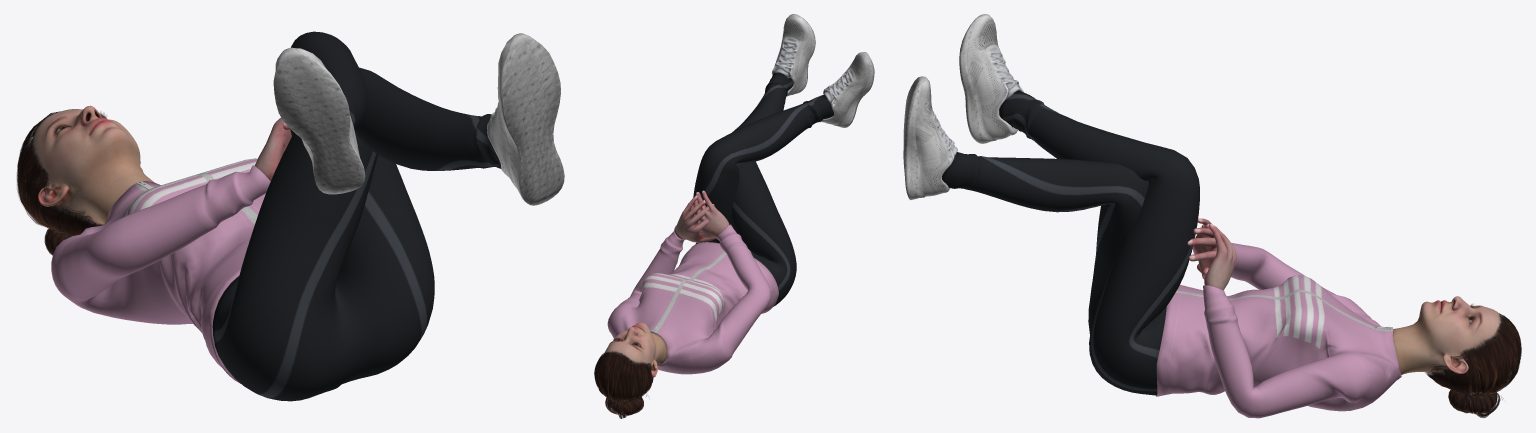
The model's file is woman.glb.
3 renders of one model, left to right at view 1: azimuth 30°, elevation 25°; view 2: azimuth 150°, elevation 25°; view 3: azimuth 270°, elevation 25°, orthographic. The views are drawn at different scales.
Visible parts, largest first — view 1: Ch37_Body; view 2: Ch37_Body; view 3: Ch37_Body.
Part boxes in pixels (<box>): Ch37_Body: <box>16,31,564,401</box>; Ch37_Body: <box>594,14,874,418</box>; Ch37_Body: <box>903,14,1521,418</box>.
Size of the model in its own units: 52.4 by 85.17 by 134.
2 materials, 2 textured.
